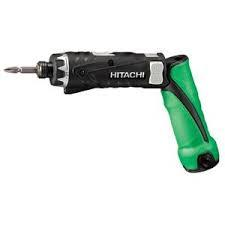screwdriver: (37, 50, 224, 173), (3, 65, 37, 72)
